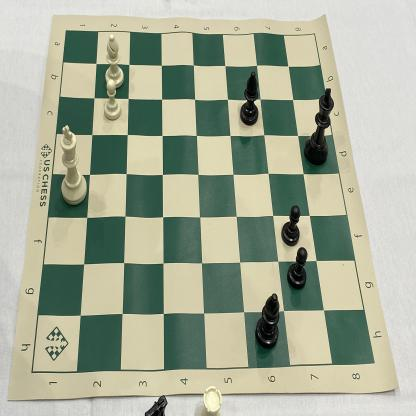black-bishop: (249, 288, 285, 352), (237, 63, 264, 130)
black-king: (302, 86, 338, 171)
black-pawn: (282, 246, 310, 292), (278, 203, 304, 249)
white-bishop: (102, 30, 127, 91)
white-king: (56, 120, 91, 211)
white-pawn: (99, 79, 126, 122)
